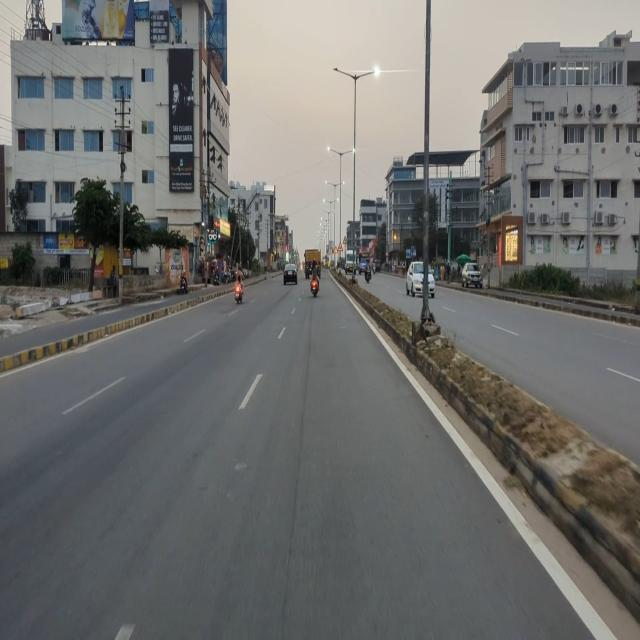bien_cam: (337, 241, 344, 252), (343, 235, 348, 245), (333, 246, 338, 254)
